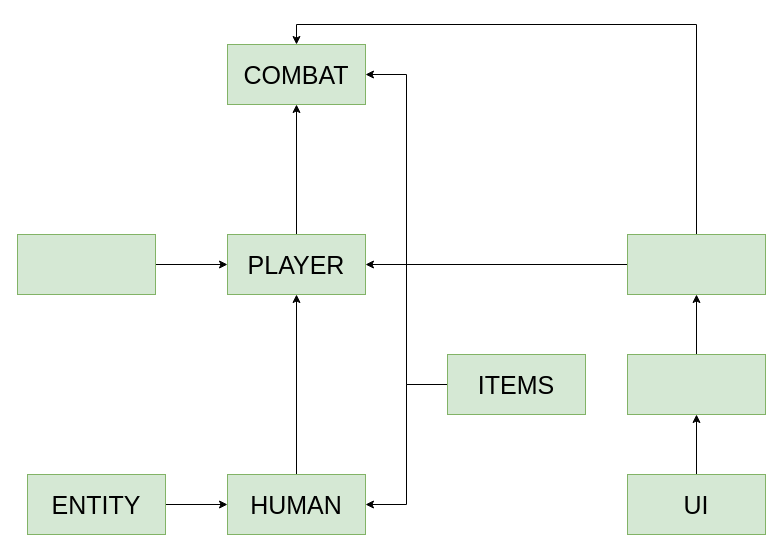
The diagram is 783 pixels wide and 552 high, and some of its shapes have lost their labels. Each missing label, with the box of its shape:
DIALOGUE: (626, 354, 766, 414)
INPUTS: (16, 234, 156, 294)
INTERACT: (626, 234, 766, 294)
